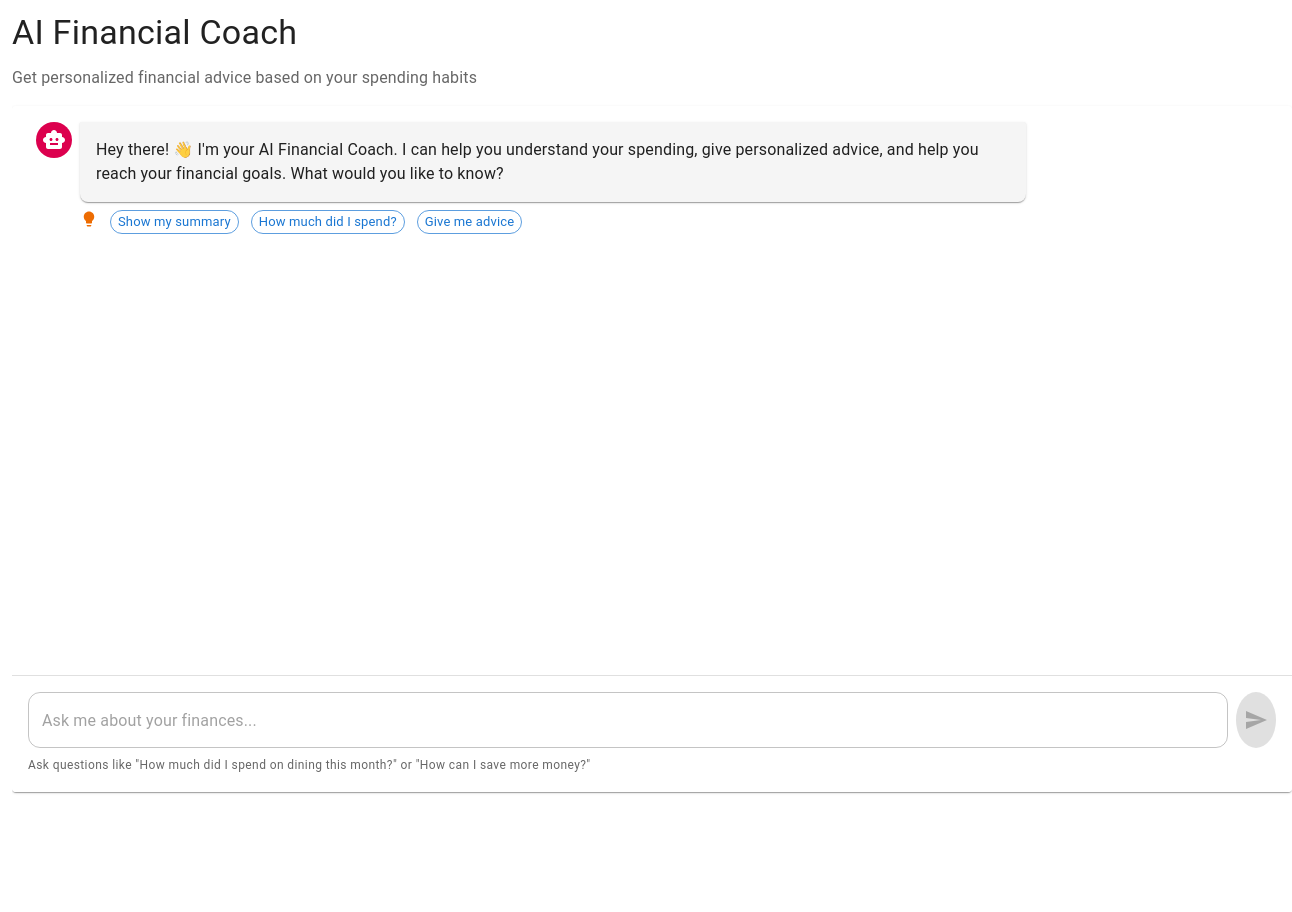
AICoach Component › displays AI response after sending message
This screenshot has width=1292, height=912.
Note: Click on a suggestion chip to send message
What coordinates should you click on to do the following:
click the button "How much did I spend?"
I would click on:
 (328, 222)
Its box is [251,210,405,234].
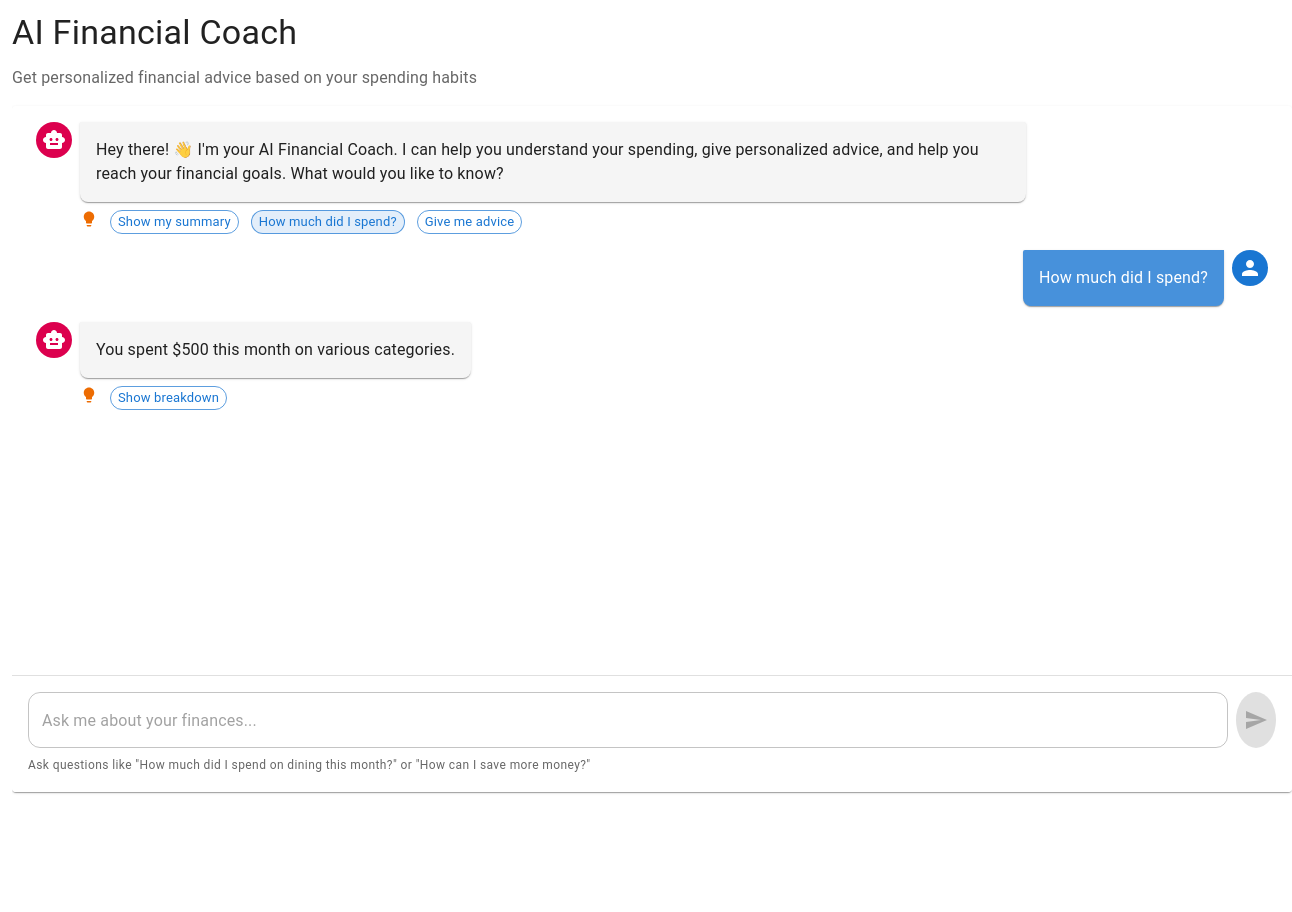
Expected: the text "You spent $500 this month on various categories." is shown, [96,338,455,362]
